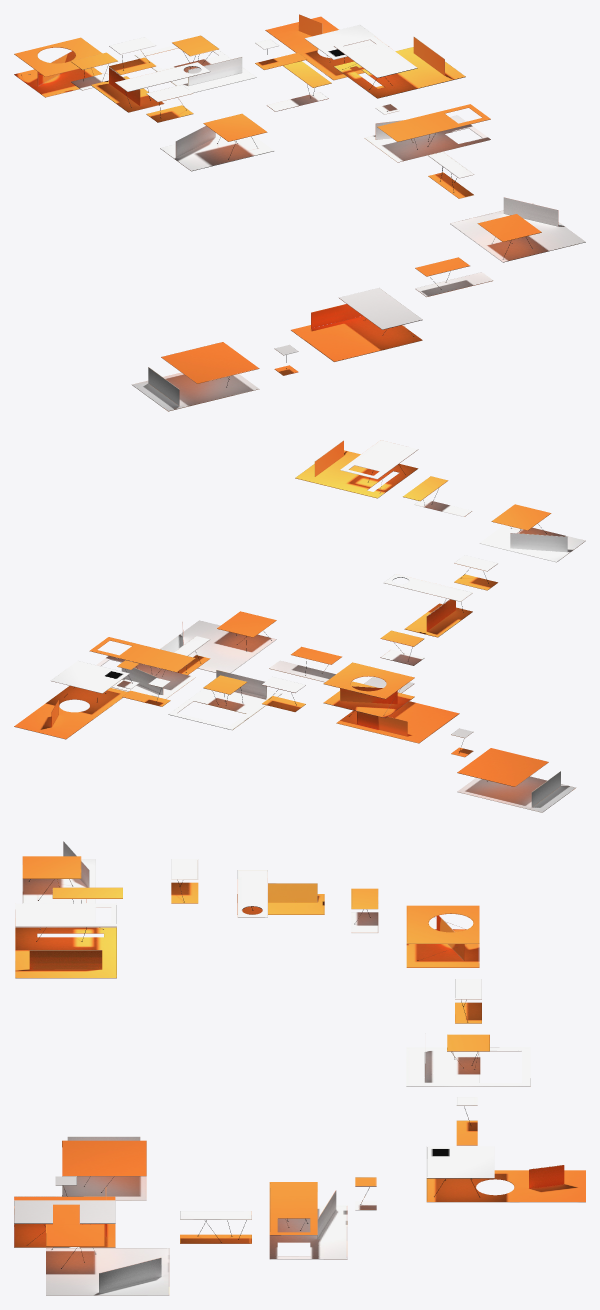
Rendered from base level.glb.
3 views of the same model, one above another, from view 1: azimuth 30°, elevation 25°; view 2: azimuth 150°, elevation 25°; view 3: azimuth 270°, elevation 25° (orthographic). The views are drawn at different scales.
Visible parts, largest first — view 1: TUTTUNO 1 materiale singolo; view 2: TUTTUNO 1 materiale singolo; view 3: TUTTUNO 1 materiale singolo.
Boxes of the visible parts, <box> form: TUTTUNO 1 materiale singolo: <box>14,14,585,411</box>; TUTTUNO 1 materiale singolo: <box>14,440,585,812</box>; TUTTUNO 1 materiale singolo: <box>14,841,585,1295</box>.
Size of the model in its own units: 139 by 97.47 by 143.
Materials: 1 (1 with a texture image).
